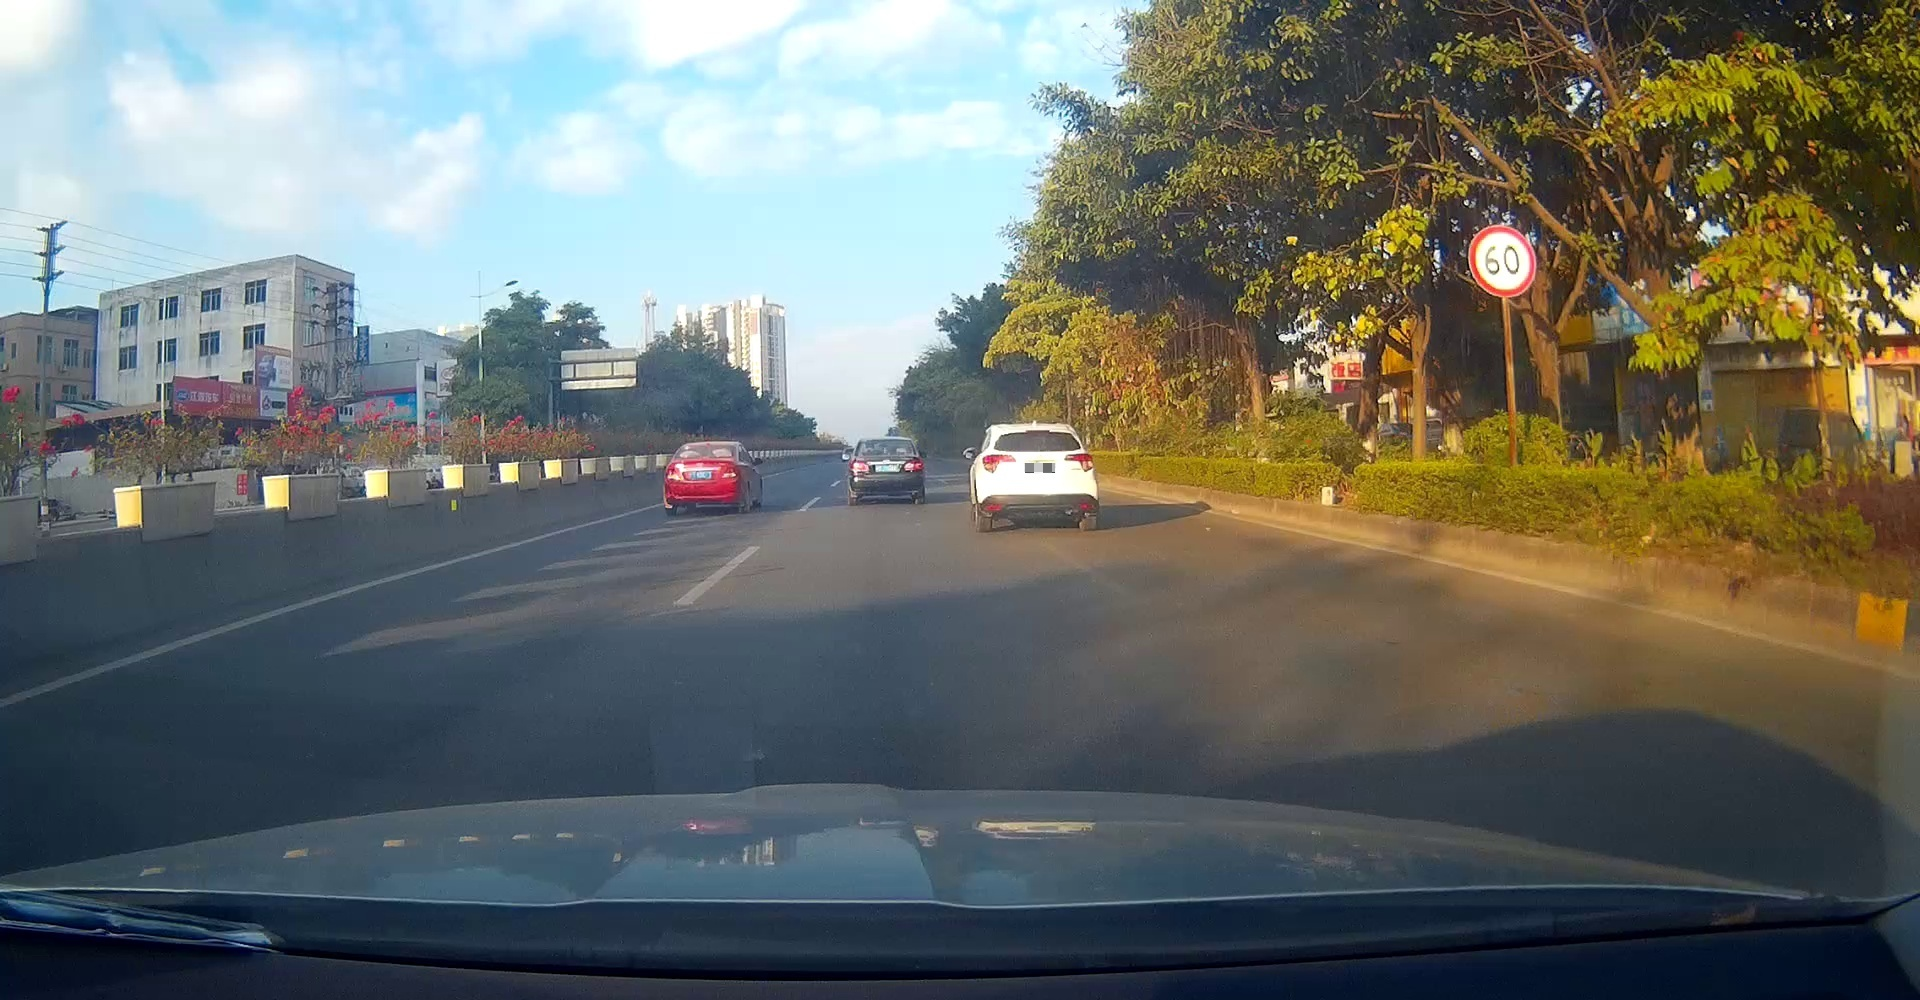L_light: (982, 453, 1015, 473), (850, 462, 870, 472), (665, 470, 683, 480)
R_light: (1064, 453, 1095, 472), (720, 466, 738, 478), (903, 461, 923, 471)
T_light: (1023, 430, 1050, 435), (879, 440, 894, 442), (698, 445, 712, 447)
day-no: (978, 423, 1098, 533), (664, 442, 742, 516), (848, 437, 924, 506)
plate_1: (1025, 463, 1055, 473)
